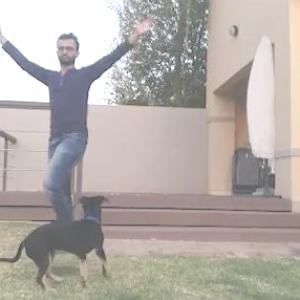takeoff: (0, 18, 160, 254)
